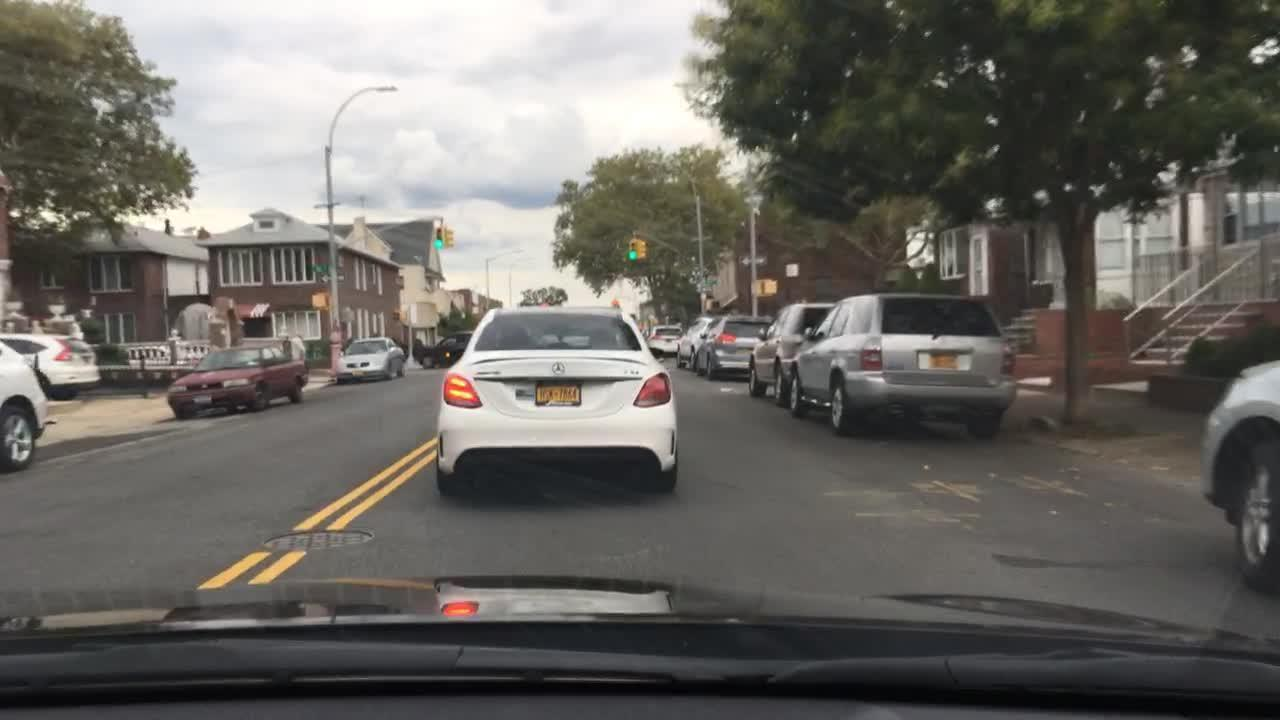Mercedes: (545, 355, 573, 385)
